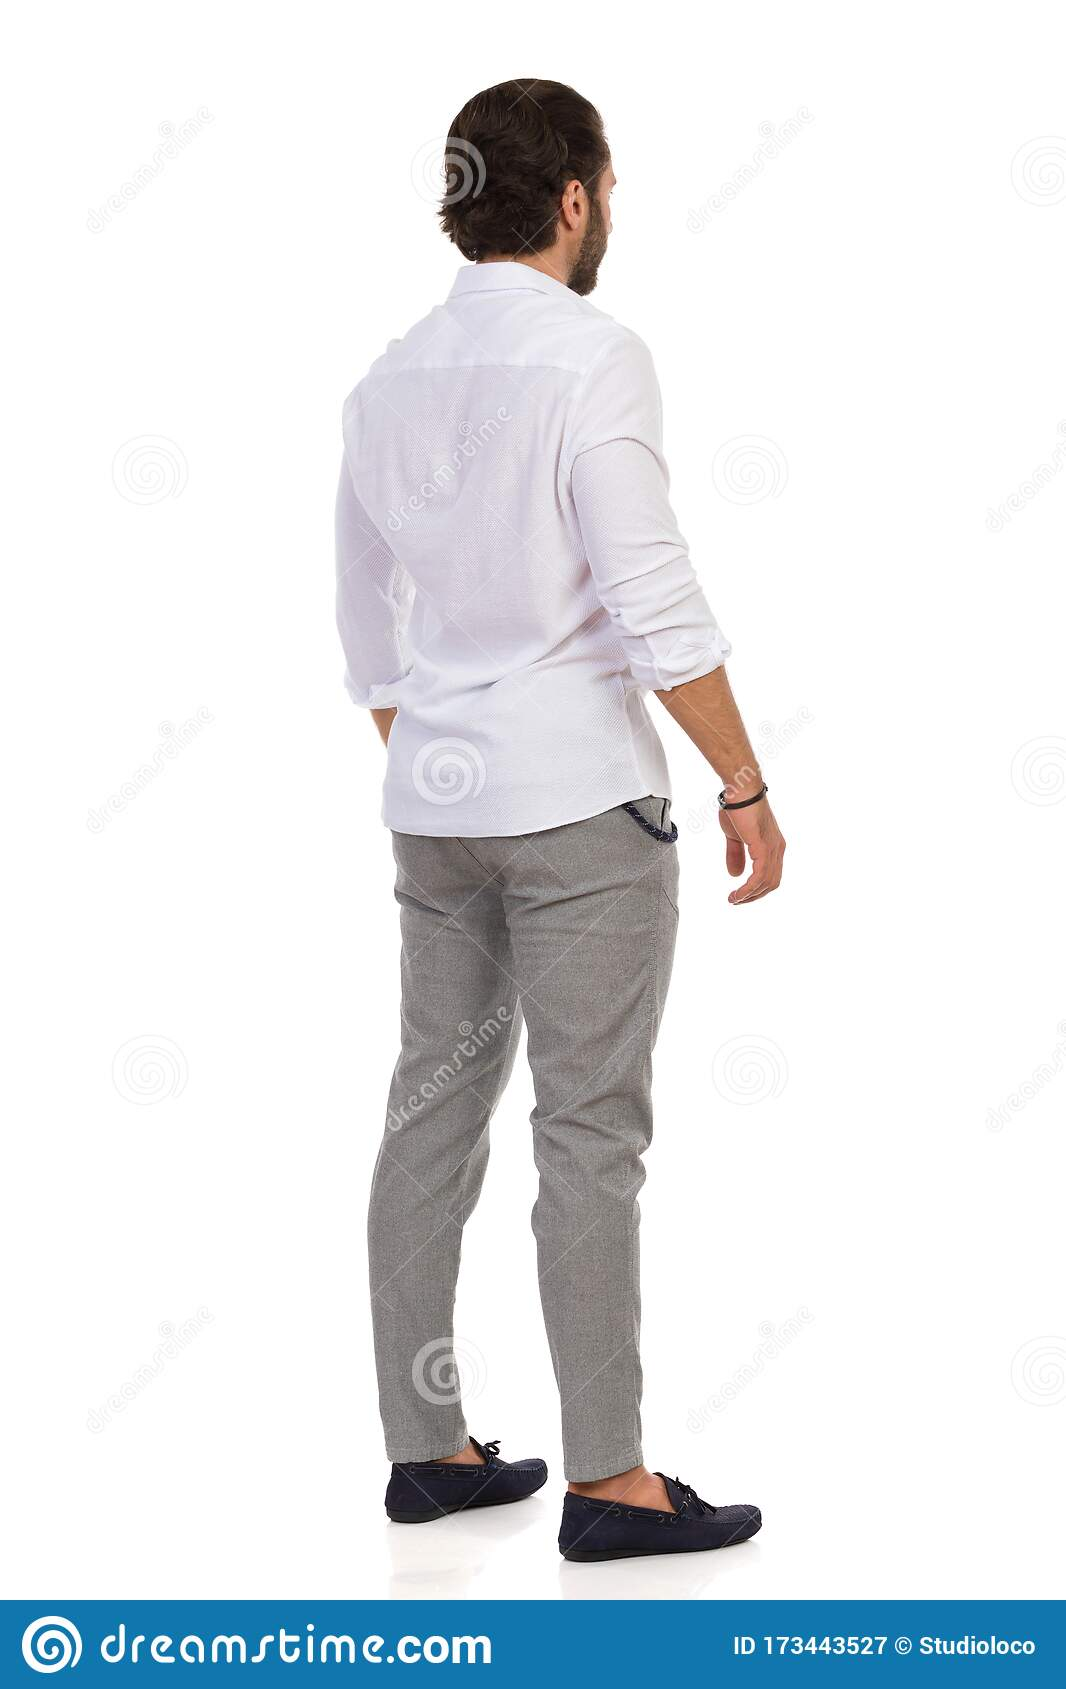person: (343, 77, 780, 1550)
